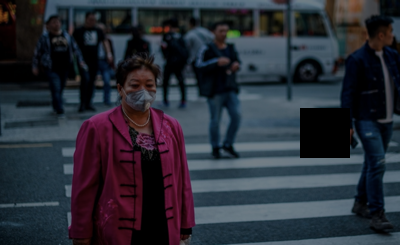with_mask: (125, 76, 157, 113)
without_mask: (385, 25, 396, 46), (217, 27, 229, 41), (87, 15, 97, 27), (51, 20, 61, 31)
